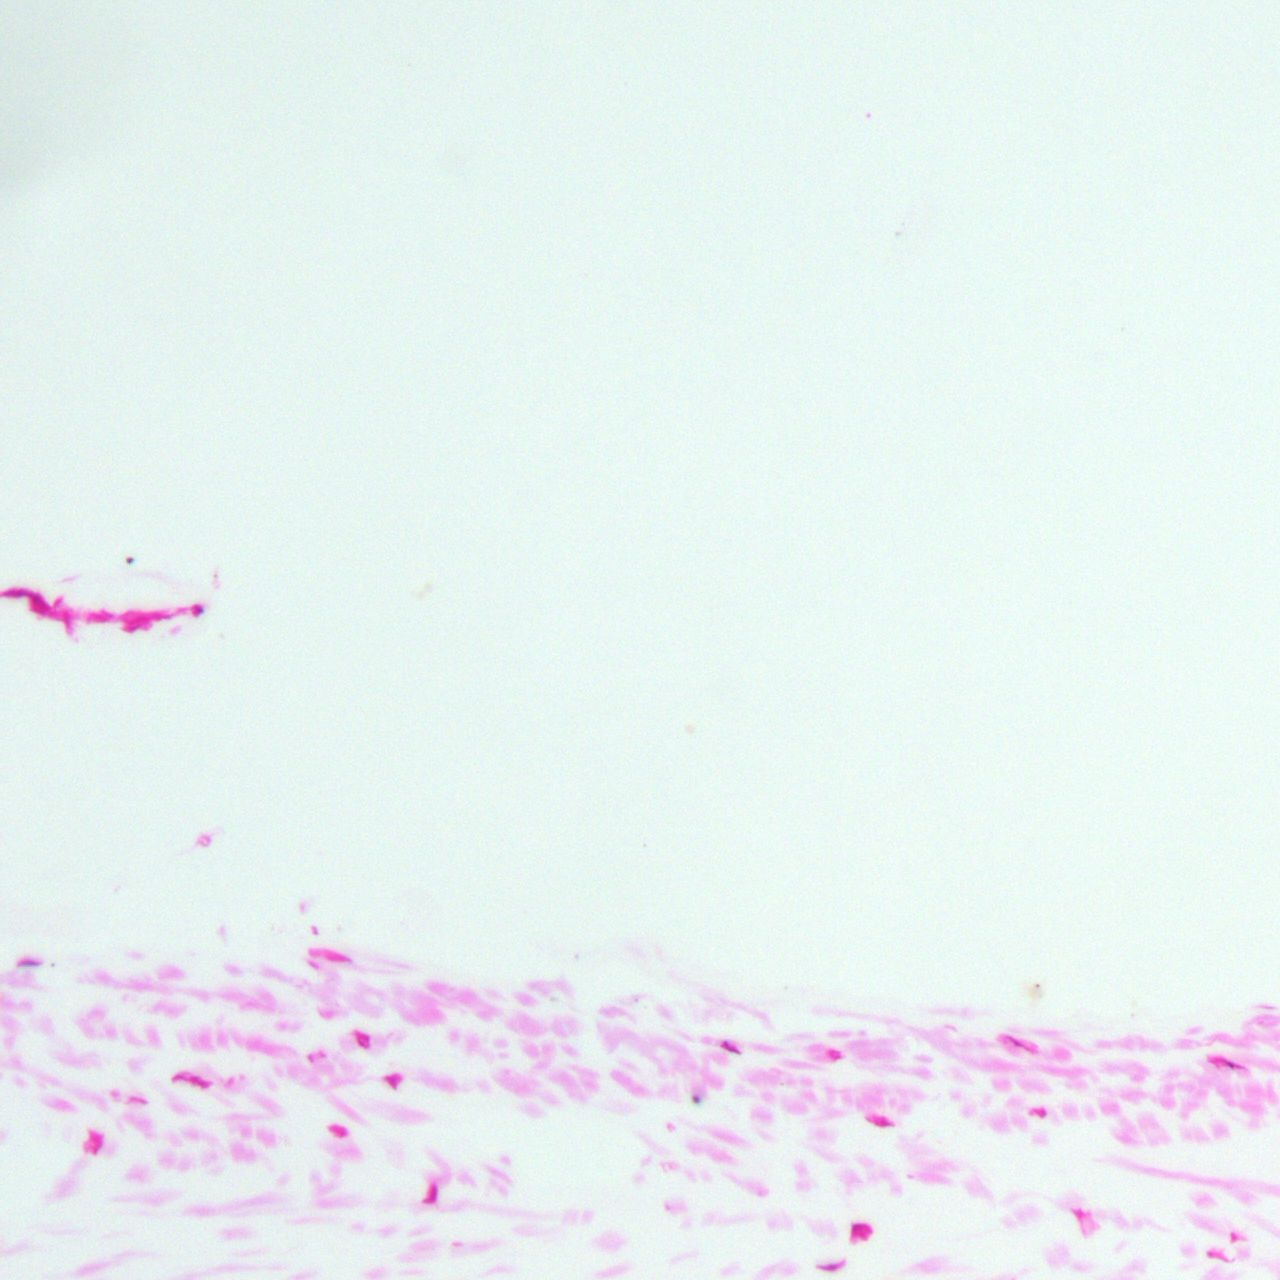dust: (125, 556, 135, 564), (692, 1096, 701, 1103), (866, 113, 871, 118), (50, 964, 55, 968)
nucleus-FG: (0, 586, 40, 601), (1006, 1035, 1035, 1055), (1214, 1055, 1245, 1073), (817, 1260, 846, 1274), (1207, 1250, 1233, 1265), (423, 1183, 440, 1204), (720, 1039, 741, 1055), (125, 1095, 148, 1105), (189, 1076, 209, 1088), (16, 959, 43, 967), (1028, 1107, 1047, 1118), (125, 622, 143, 634), (384, 1075, 399, 1089), (327, 956, 353, 964), (355, 1033, 367, 1048), (62, 615, 72, 633), (166, 1073, 183, 1082), (29, 607, 46, 615), (850, 1223, 863, 1232), (91, 1145, 103, 1155), (874, 1121, 893, 1126), (308, 961, 319, 971), (831, 1054, 842, 1061), (334, 1132, 348, 1137), (312, 926, 318, 935)
